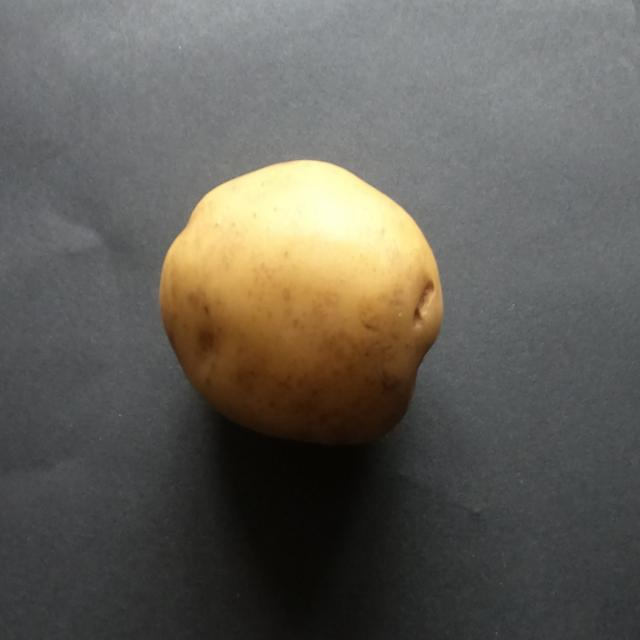Potato: (141, 144, 465, 487)
